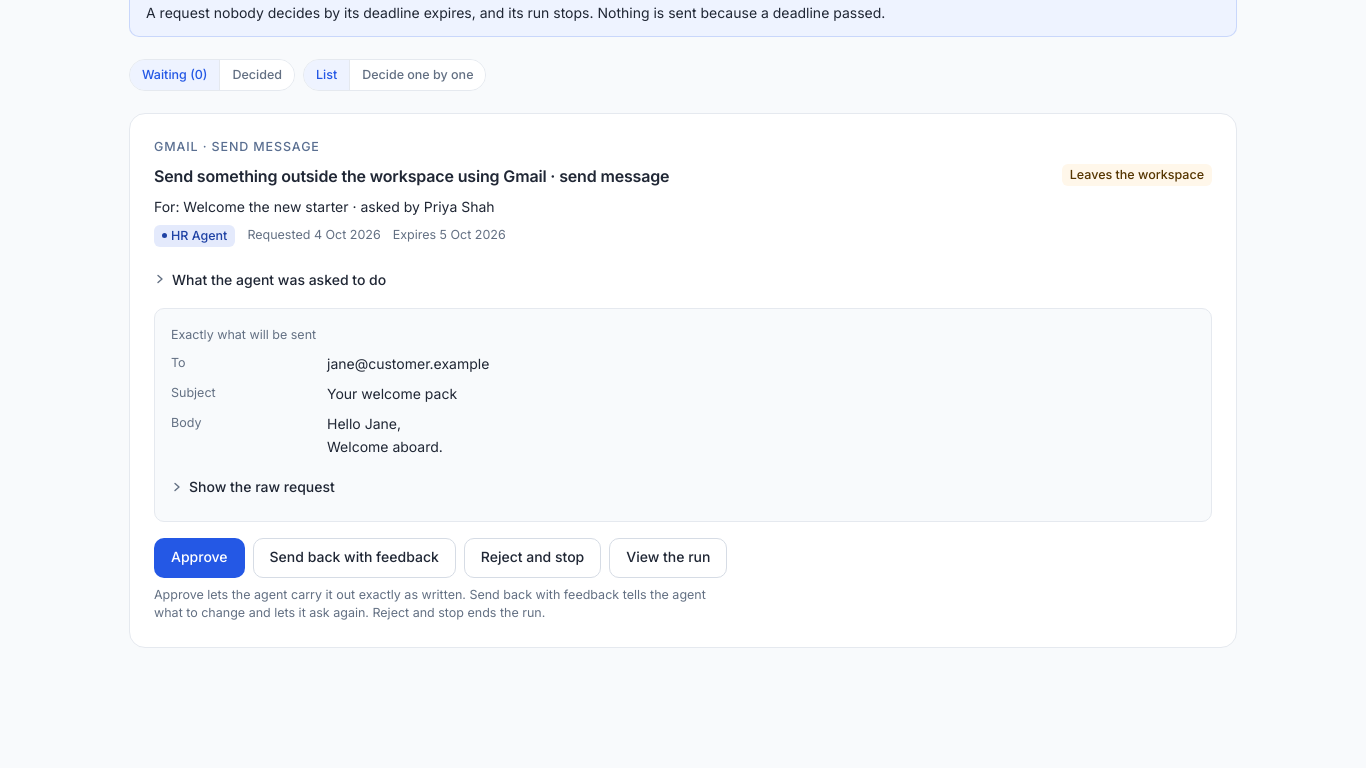
Scenario: Approvals, the queue › rejects with a note that says who will see it
(page scrolled)
Click the button "Reject and stop" at (533, 558), box [464, 538, 601, 578]
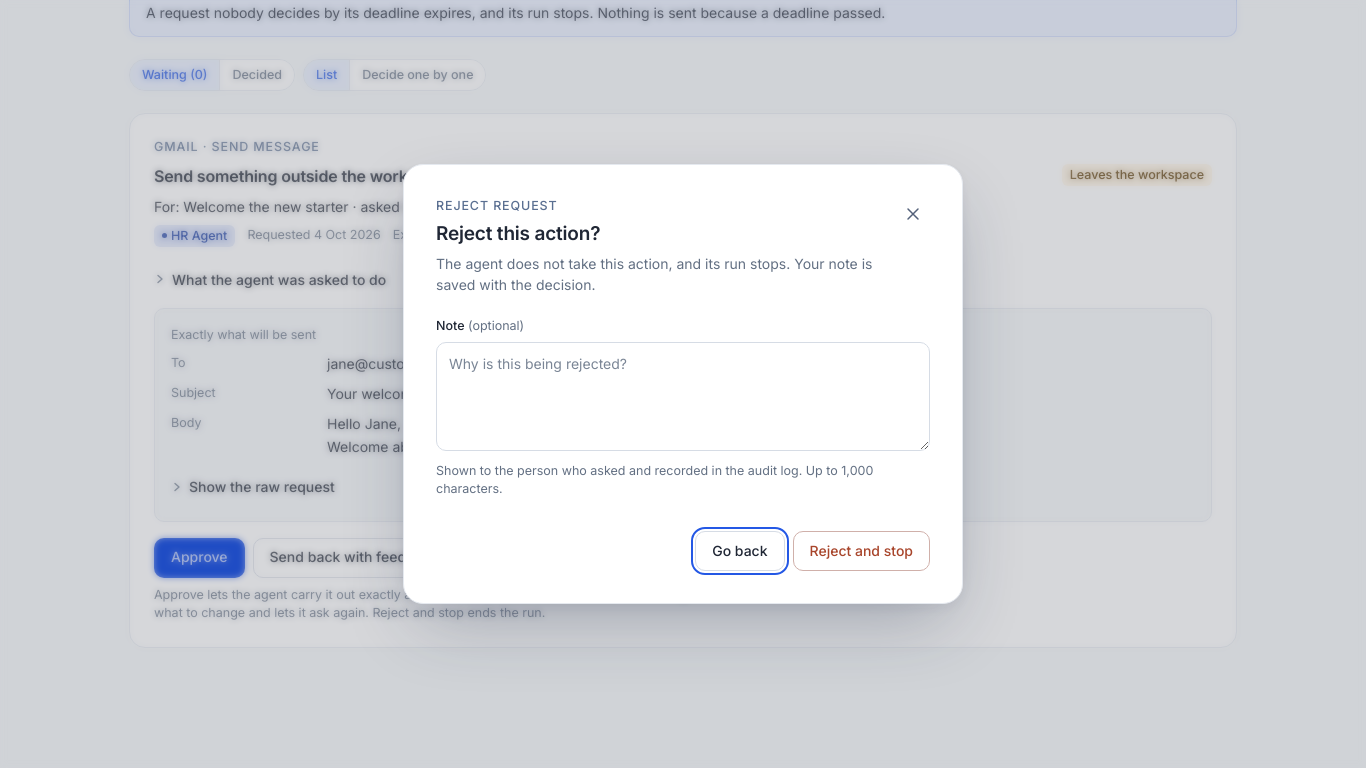
Now the text "Shown to the person who asked and recorded in the audit log. Up to 1,000 characters." is shown, box [436, 463, 873, 496]
Type "Wrong recipient." into the text box labelled "Note (optional)" at (683, 396), box [436, 342, 930, 451]
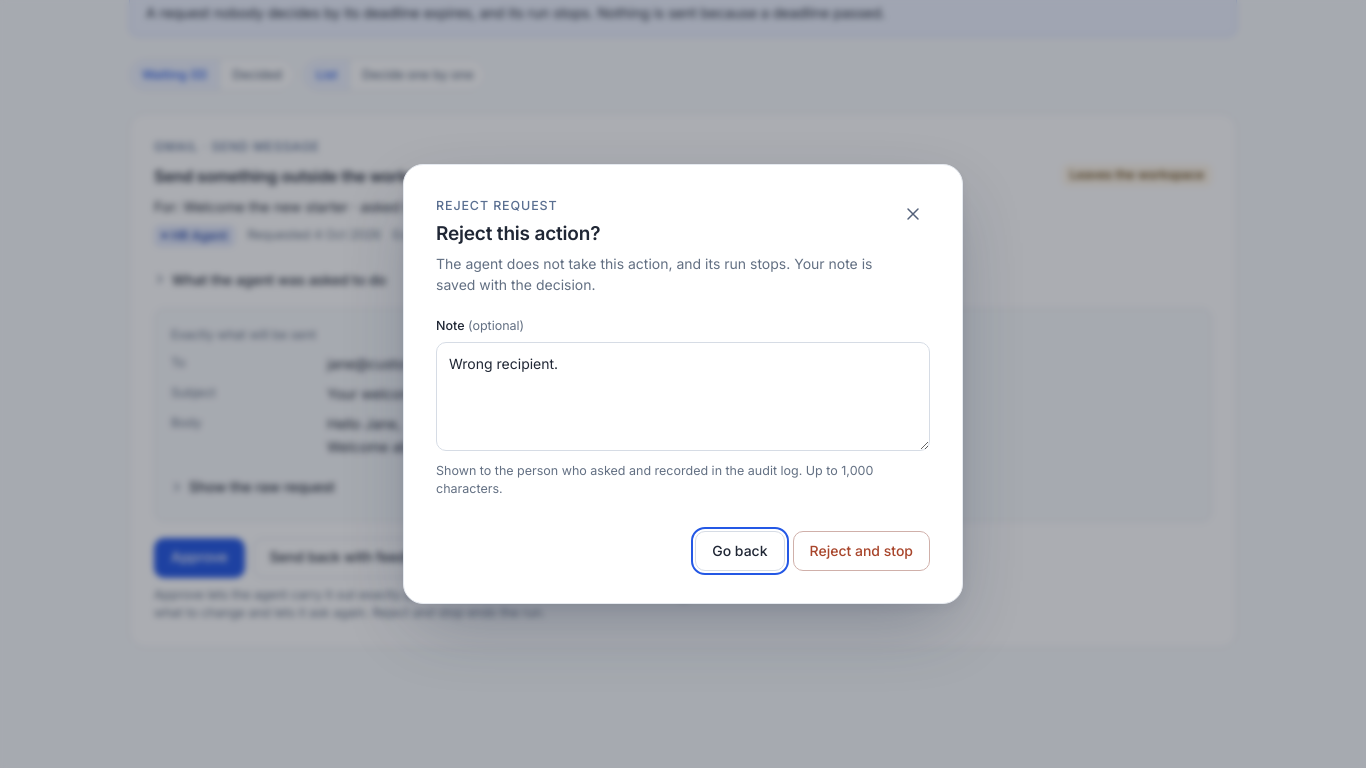
Click the button "Reject and stop" at (861, 551), box [792, 531, 930, 571]
(page scrolled)
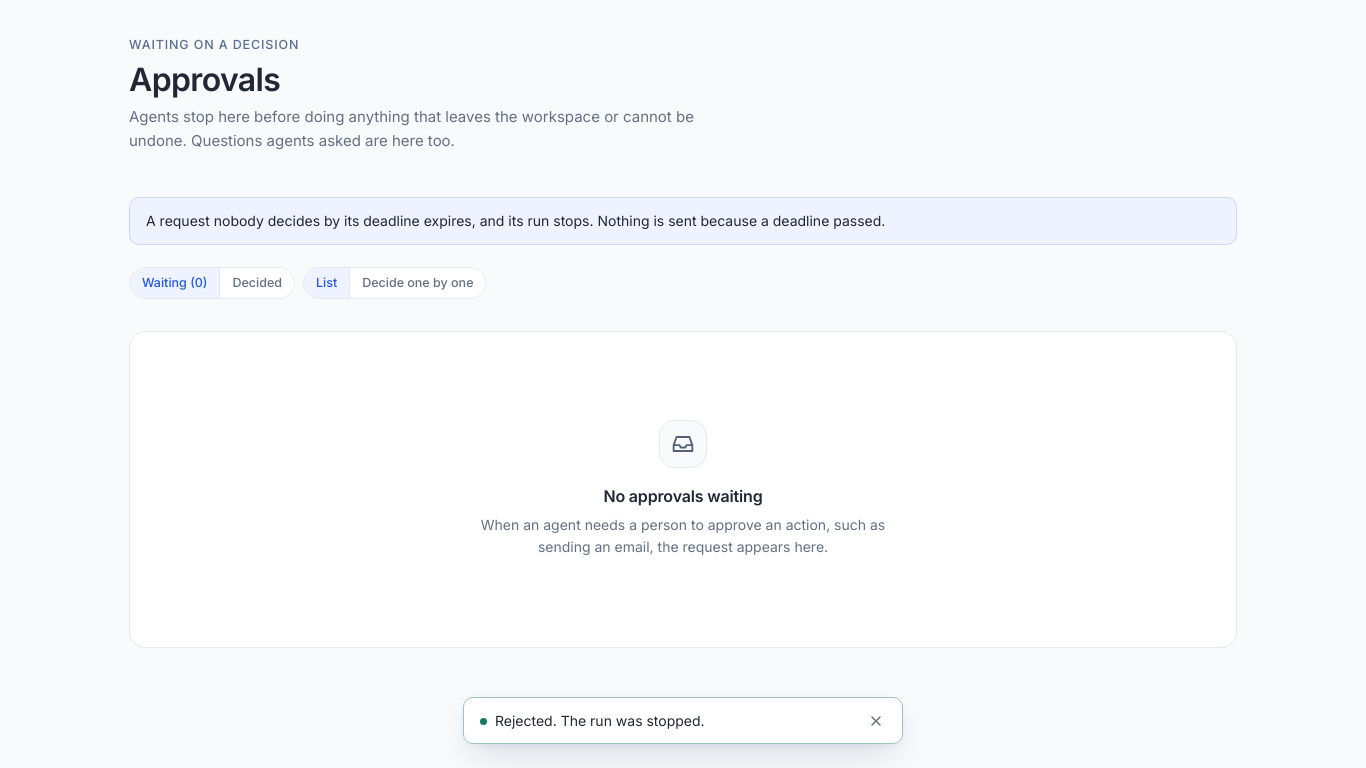
Now the element with id "approval-a-1" is gone
